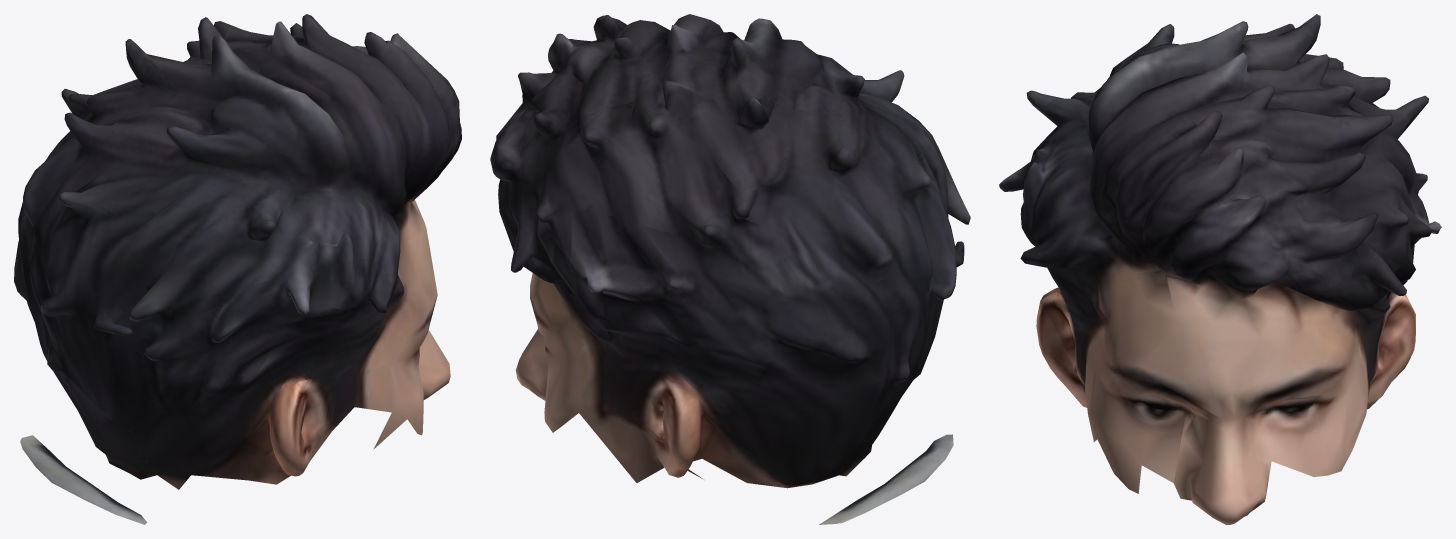
The model's file is hl_hova_head.glb.
3 renders of one model, left to right at view 1: azimuth 30°, elevation 25°; view 2: azimuth 150°, elevation 25°; view 3: azimuth 270°, elevation 25°, orthographic.
Parts seen in each view (by area): view 1: tripo_node_c3aeeb16-5e0e-4c1a-b0f1-8634b4d7bcb6.001; view 2: tripo_node_c3aeeb16-5e0e-4c1a-b0f1-8634b4d7bcb6.001; view 3: tripo_node_c3aeeb16-5e0e-4c1a-b0f1-8634b4d7bcb6.001.
Part boxes in pixels (x1,y1,x2,y2): tripo_node_c3aeeb16-5e0e-4c1a-b0f1-8634b4d7bcb6.001: (14,14,461,524); tripo_node_c3aeeb16-5e0e-4c1a-b0f1-8634b4d7bcb6.001: (490,14,970,524); tripo_node_c3aeeb16-5e0e-4c1a-b0f1-8634b4d7bcb6.001: (999,14,1441,524).
Size of the model in its own units: 0.1246 by 0.1157 by 0.1135.
1 material, 1 textured.
